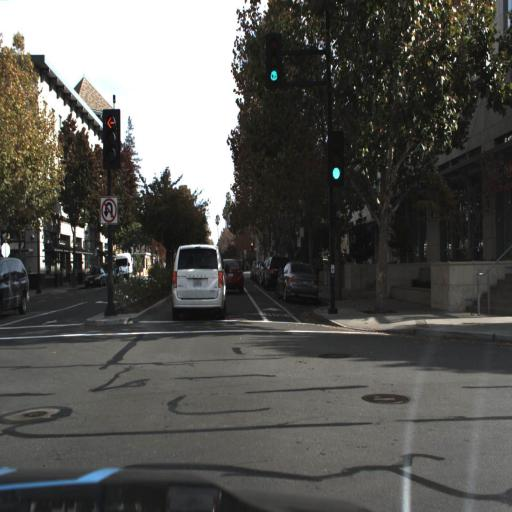car: (164, 235, 232, 324), (272, 261, 318, 306), (210, 251, 248, 305), (0, 256, 30, 316), (262, 256, 285, 290), (112, 250, 134, 283), (82, 268, 106, 289)
trafficLight: (327, 132, 344, 185)
trafficLight-Green: (265, 31, 282, 88)
trafficLight-RedLeft: (102, 107, 120, 169)
